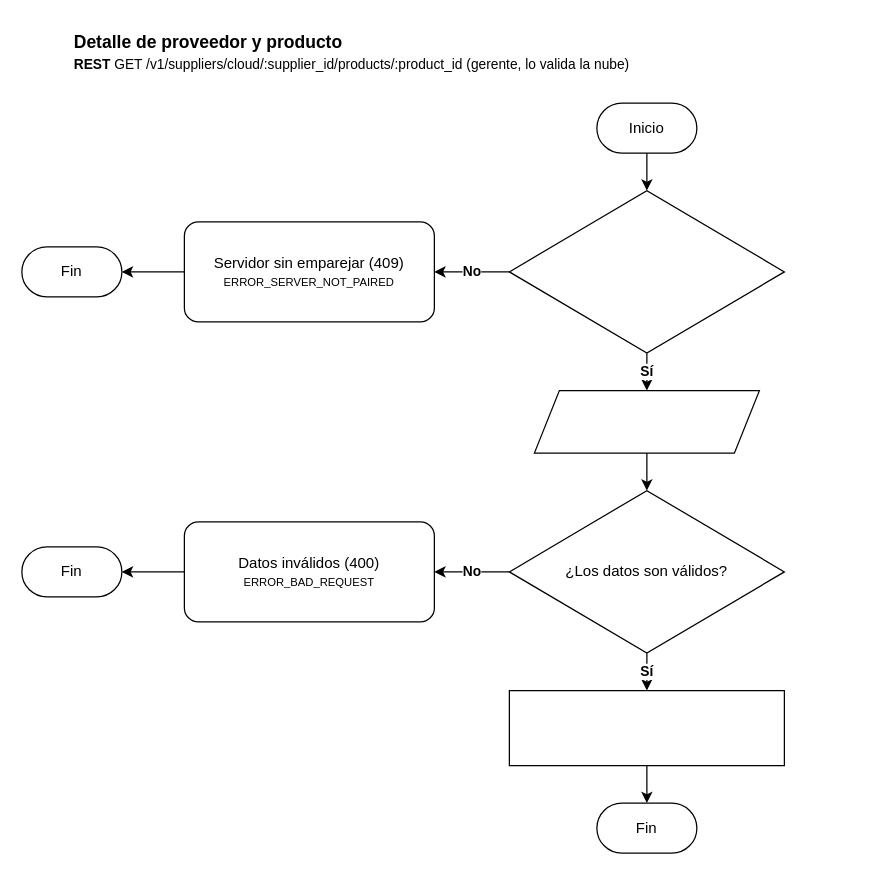
Image size: 894x875. Some labels were removed from this diagram. The centre of each missing label's shape, as x and y in pixels:
"Recibir datos" belongs at (646,421).
"Responder 200 con el mensaje SUPPLIER_PRODUCT_RETRIEVED" belongs at (646,727).
"¿El servidor ya se emparejó alguna vez (pairing_status distinto de unpaired)?" belongs at (646,271).
